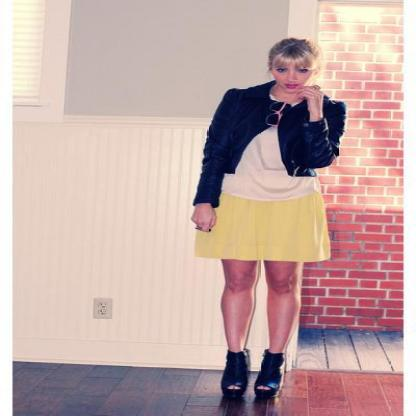jacket: (194, 80, 344, 208)
shirt: (222, 130, 320, 200)
shoe: (223, 349, 283, 383)
skirt: (196, 192, 330, 274)
